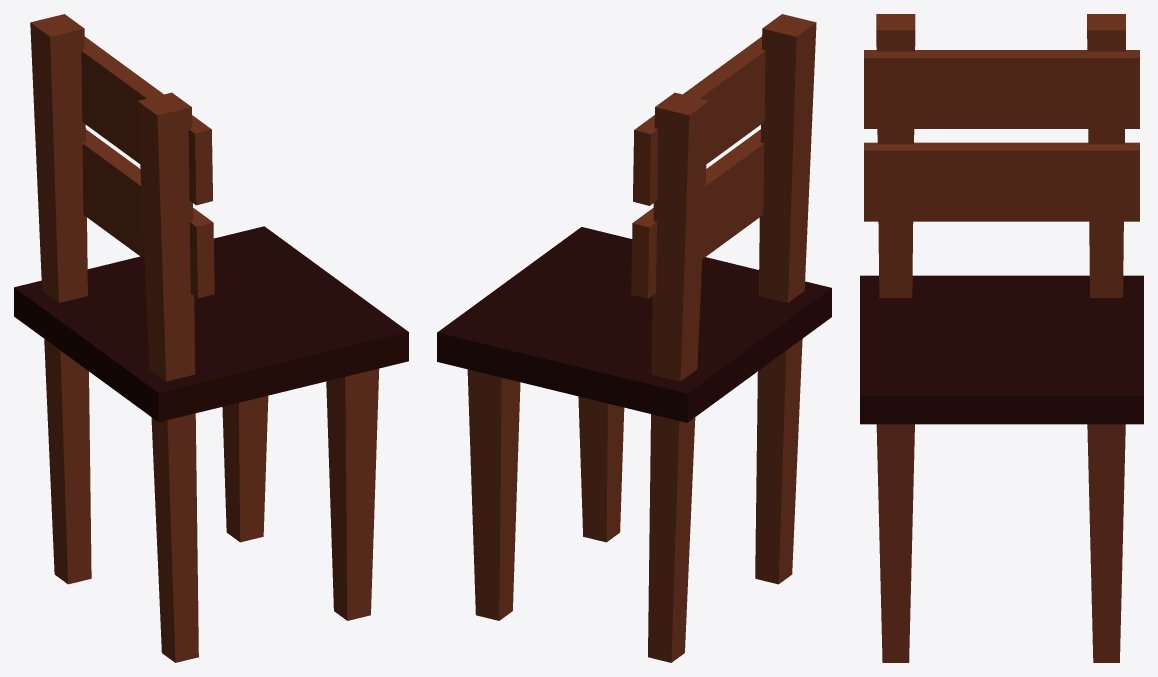
The model's file is Chair.fbx.
The picture shows the model from 3 angles, left to right: view 1: azimuth 30°, elevation 25°; view 2: azimuth 150°, elevation 25°; view 3: azimuth 270°, elevation 25°; orthographic projection.
Parts seen in each view (by area): view 1: Cube.006; view 2: Cube.006; view 3: Cube.006.
Part boxes in pixels (bbox=[...]): Cube.006: bbox=[14, 14, 408, 662]; Cube.006: bbox=[437, 14, 831, 662]; Cube.006: bbox=[860, 14, 1143, 662].
Bounding box in the file's own units: 115 × 244 × 115.
